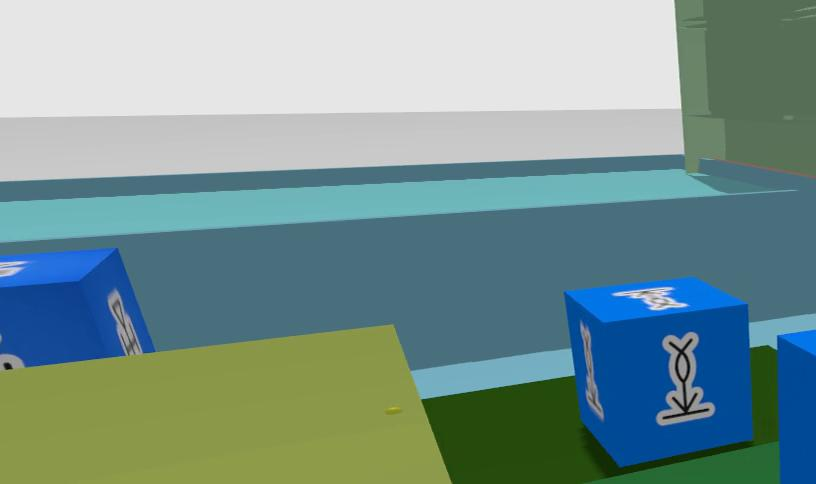KFS_REAL: (564, 277, 752, 466), (0, 248, 154, 371), (778, 329, 816, 484), (657, 333, 713, 424), (580, 322, 603, 420), (613, 287, 686, 310)
